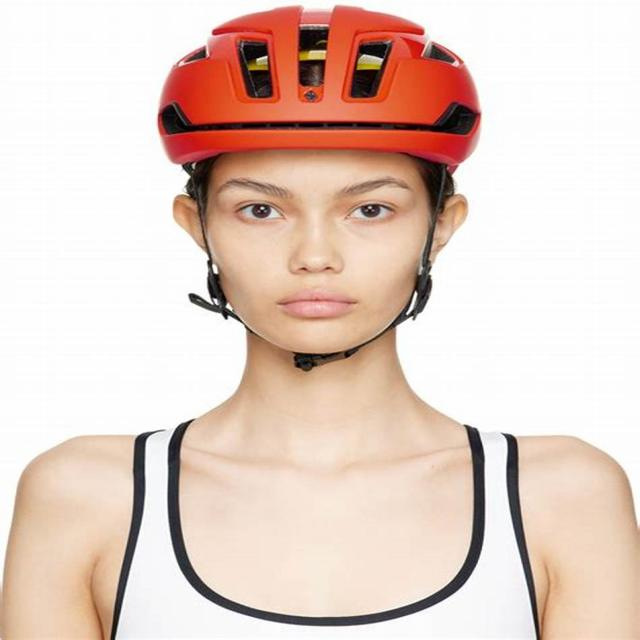illegal_helmet: (152, 0, 486, 379)
